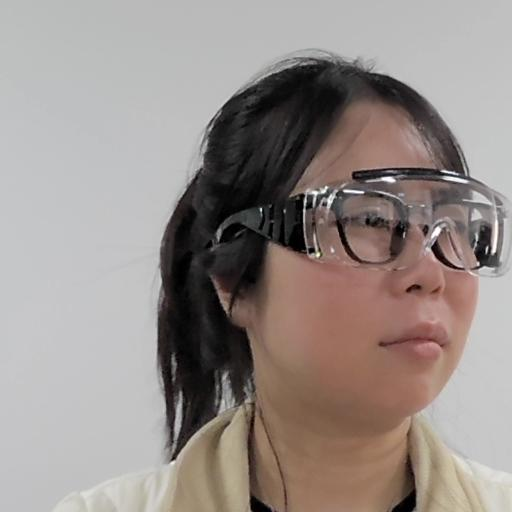glasses: (189, 64, 512, 424)
